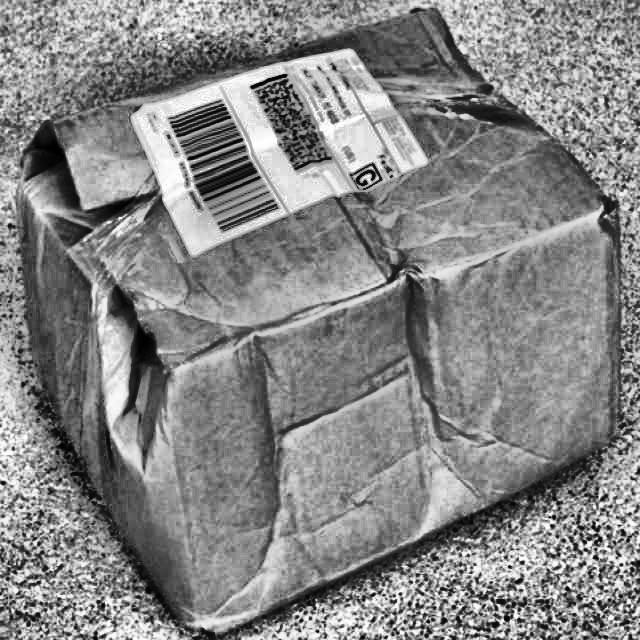box: (11, 6, 623, 637)
hole: (110, 297, 176, 403)
